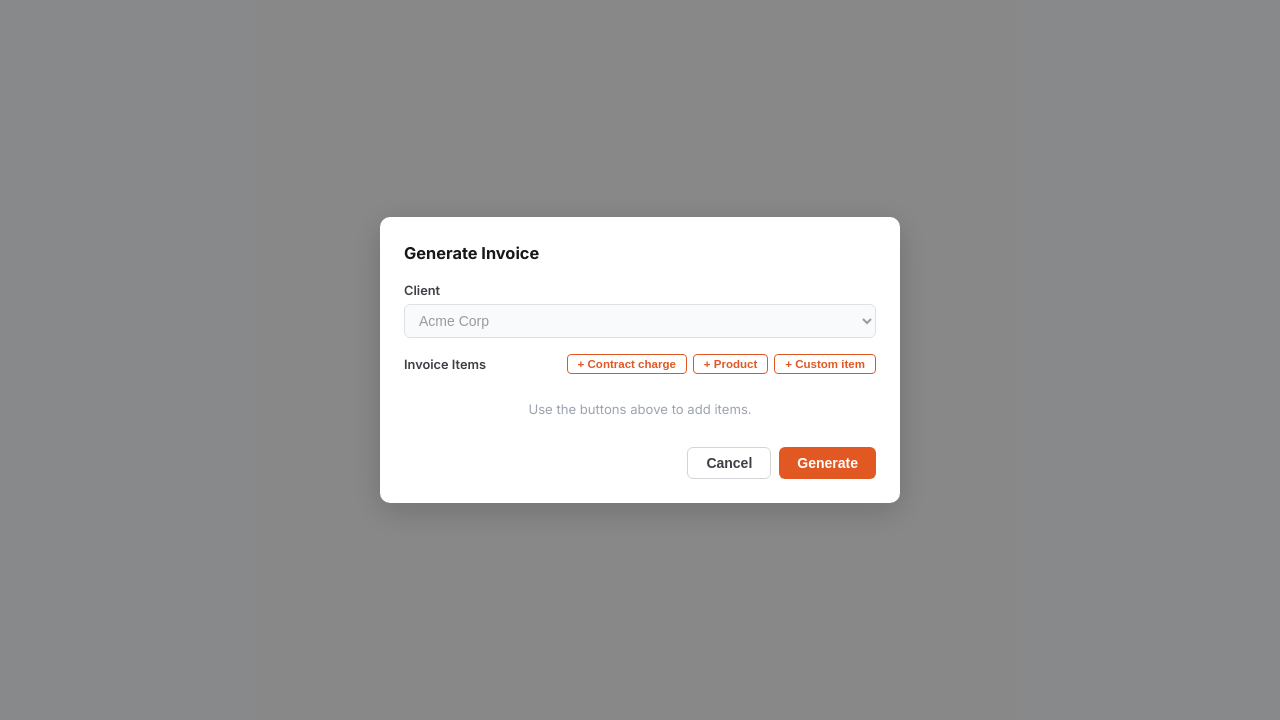
it: GenerateInvoiceModal › adds a Product line backed by the add-on catalog (no contract picker)
Click the button titled "Add Product" at (731, 364), box [693,354,768,374]
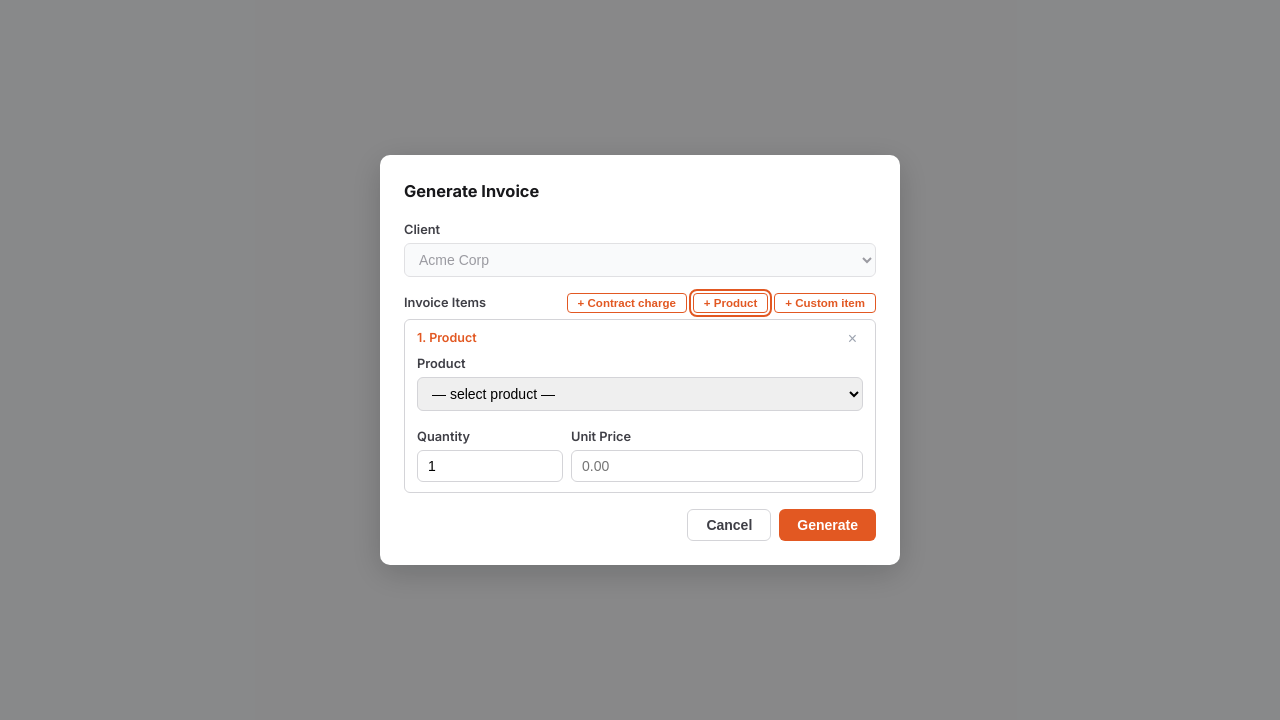
Result: the text "1. Product" is shown at [417,329,477,348]
